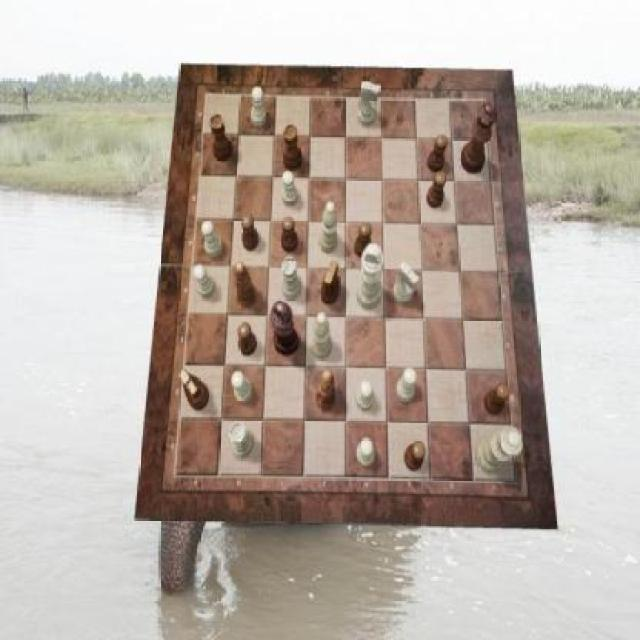bishop: (234, 262, 257, 309), (317, 368, 337, 410)
black-bishop: (269, 300, 299, 356)
black-king: (178, 369, 208, 411), (320, 258, 340, 304)
black-knight: (484, 383, 510, 415), (428, 134, 448, 172), (428, 171, 448, 208), (404, 440, 426, 471), (238, 322, 258, 356), (242, 214, 259, 251), (282, 217, 299, 253), (354, 222, 371, 258)
black-pawn: (460, 101, 498, 174)
black-queen: (209, 114, 233, 161), (283, 124, 302, 170)
black-rook: (318, 201, 338, 254), (312, 312, 332, 360)
white-bishop: (357, 243, 384, 309)
white-king: (394, 261, 420, 304), (357, 81, 380, 127)
white-knight: (201, 222, 224, 259), (231, 372, 253, 405), (193, 265, 214, 299), (396, 368, 416, 402), (251, 88, 266, 128), (355, 380, 373, 411), (282, 171, 298, 205), (357, 438, 375, 468)
white-pawn: (475, 426, 523, 472)
white-queen: (229, 422, 254, 459), (283, 256, 303, 300)
